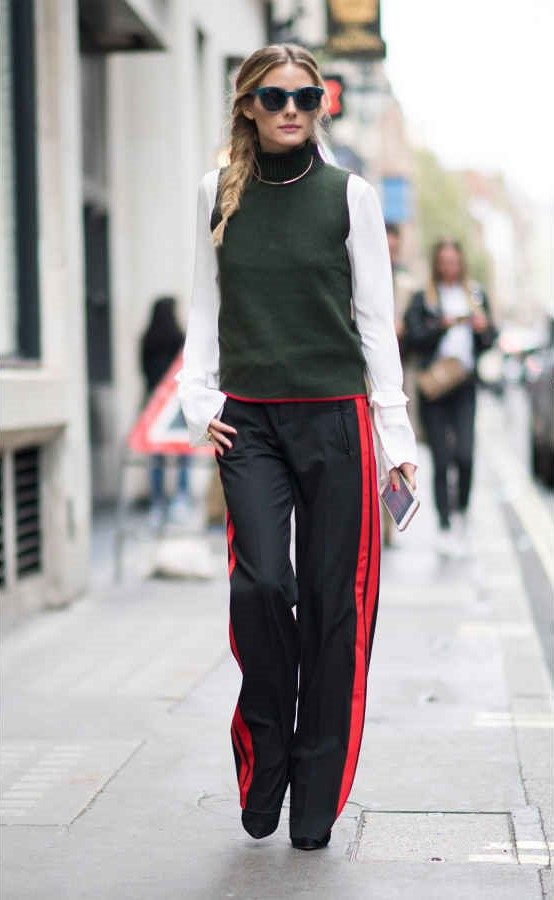feet: (217, 696, 358, 864)
